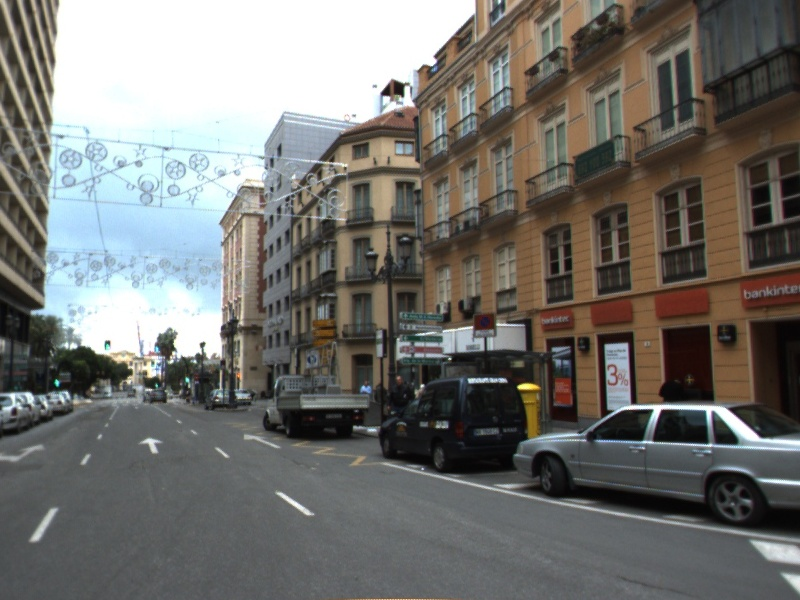STRAIGHT: (242, 431, 284, 451), (136, 435, 166, 456)
STRAIGHT_LEFT: (1, 442, 49, 464)
